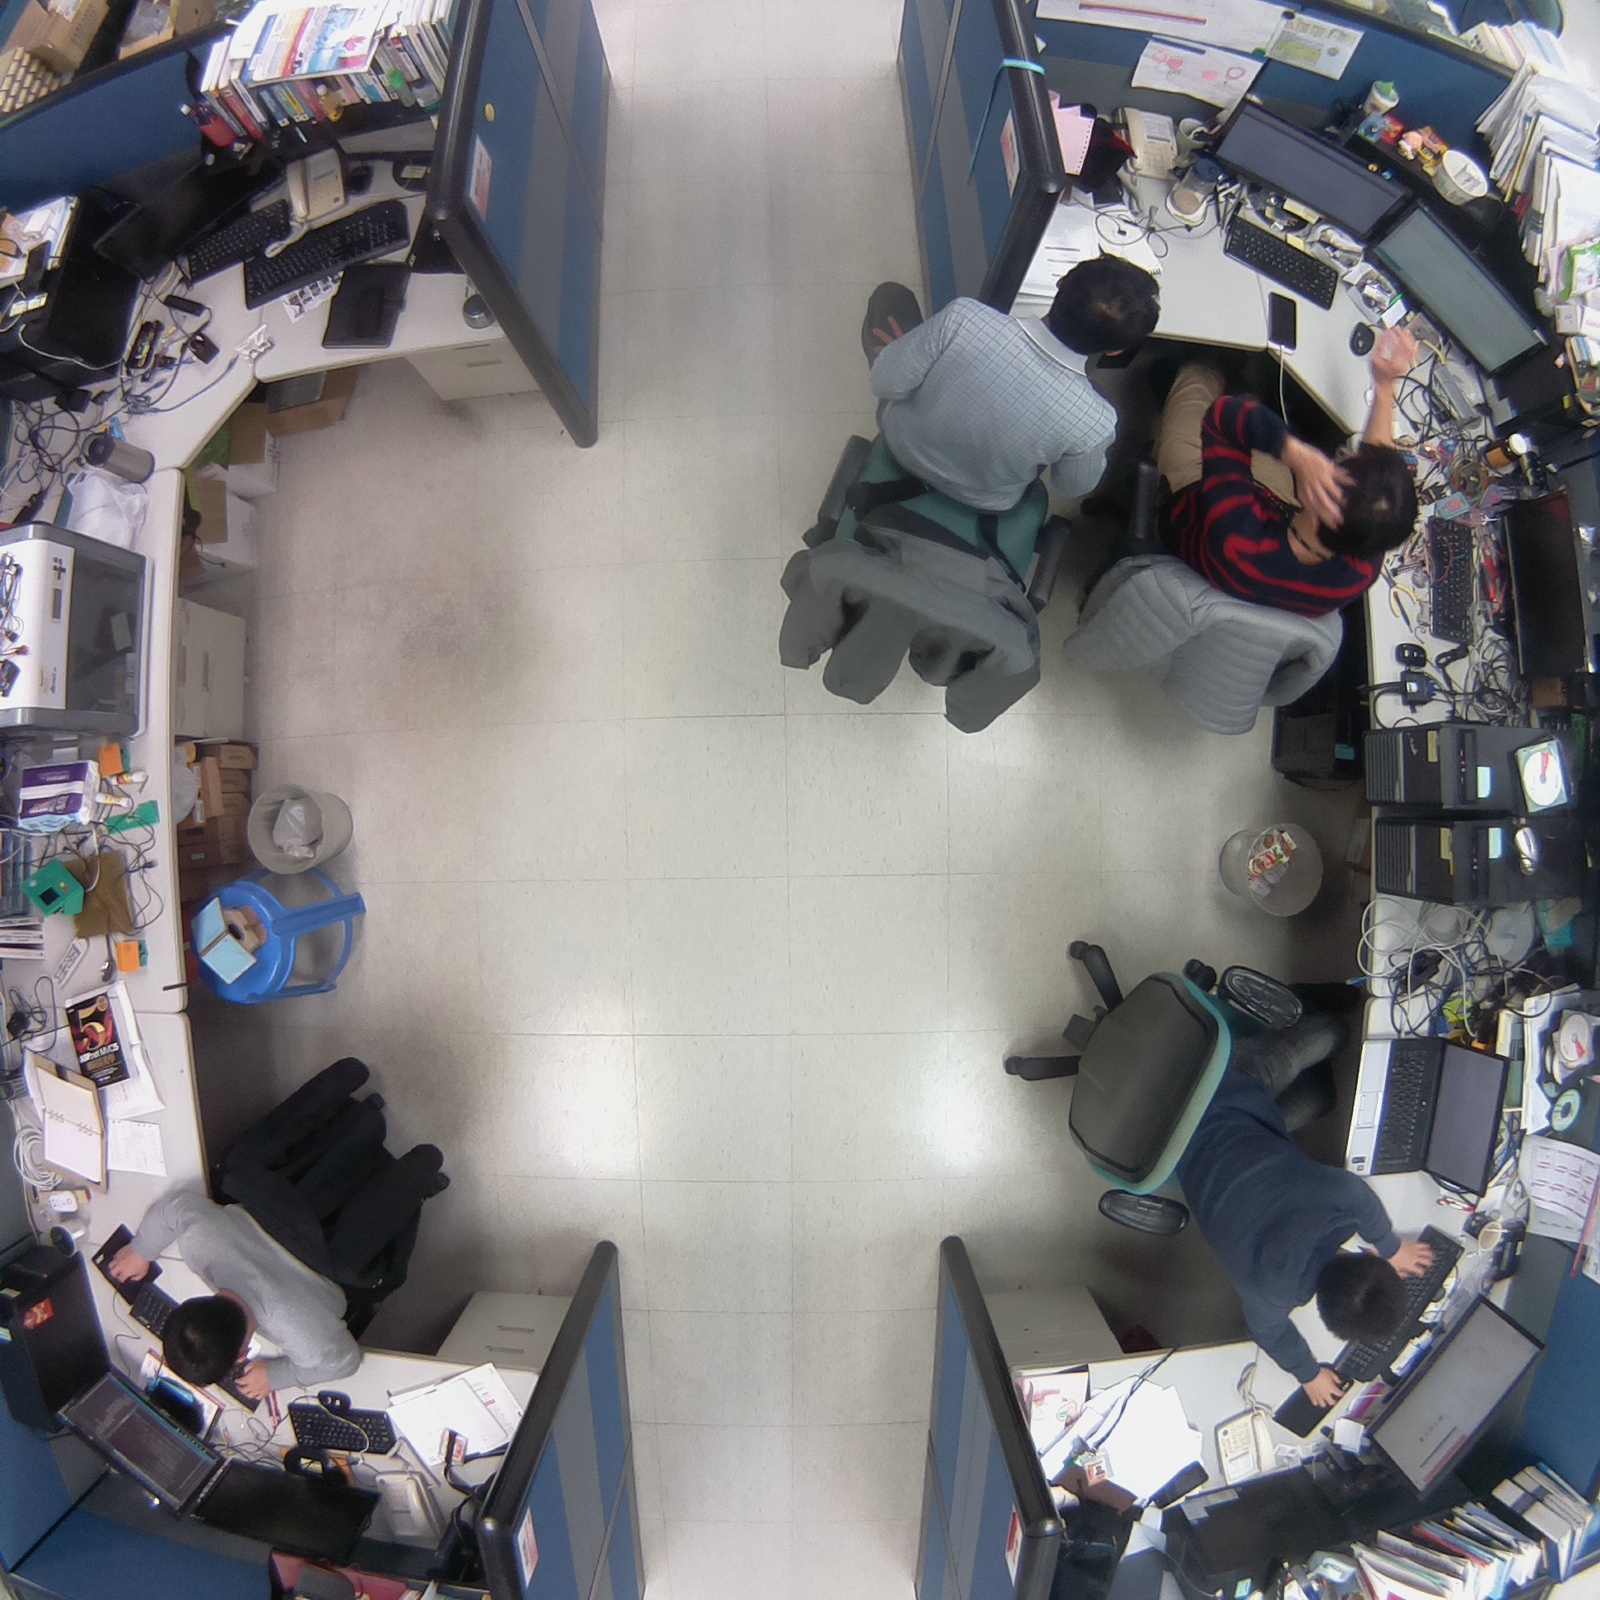head: (1042, 242, 1166, 361), (1306, 434, 1419, 563), (155, 1287, 261, 1393), (1310, 1244, 1419, 1348)
sitting: (978, 906, 1435, 1411), (753, 238, 1165, 758), (93, 1032, 458, 1417), (1155, 358, 1427, 626)
